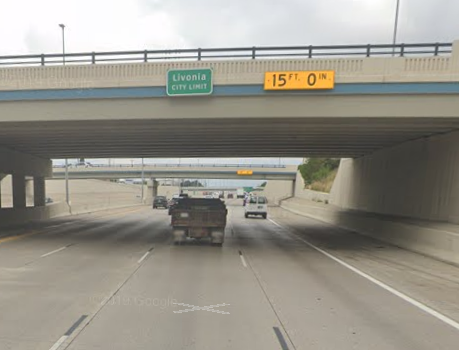0: (304, 71, 319, 88)
1: (269, 71, 278, 88)
5: (276, 71, 288, 88)
overheadsign: (261, 69, 336, 90)
